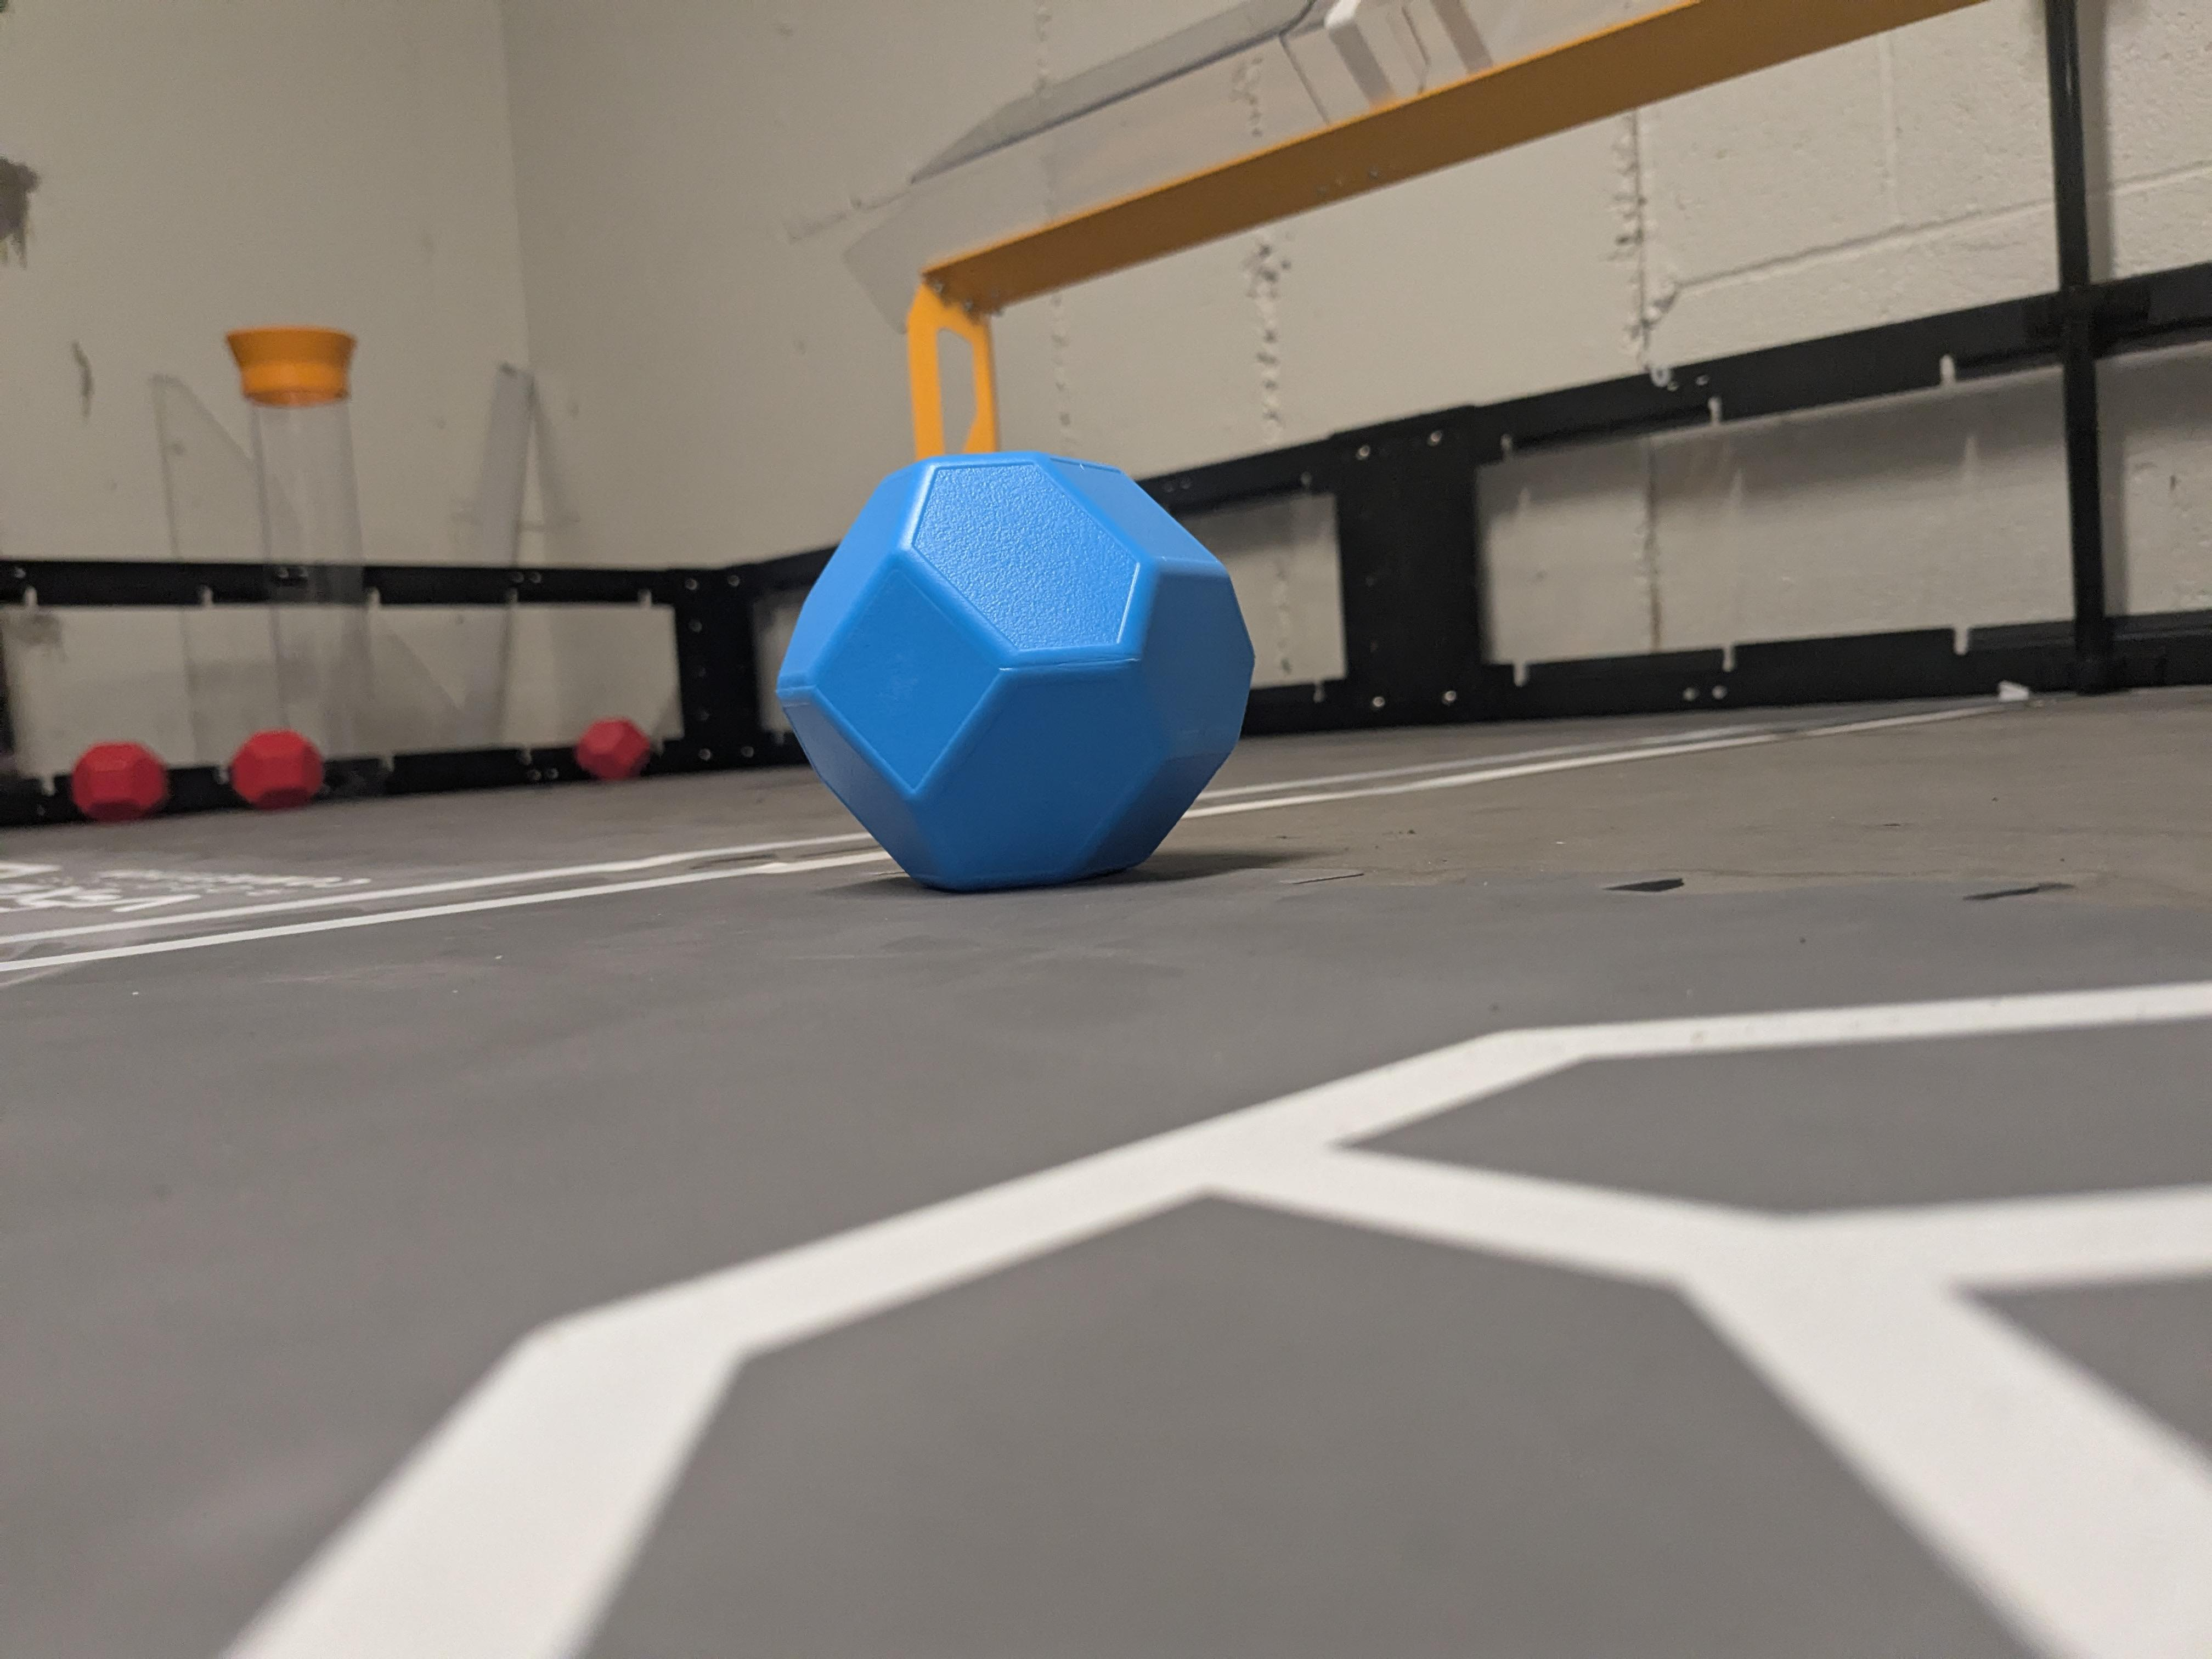Vex-Pieces-BLUE: (770, 453, 1251, 892)
